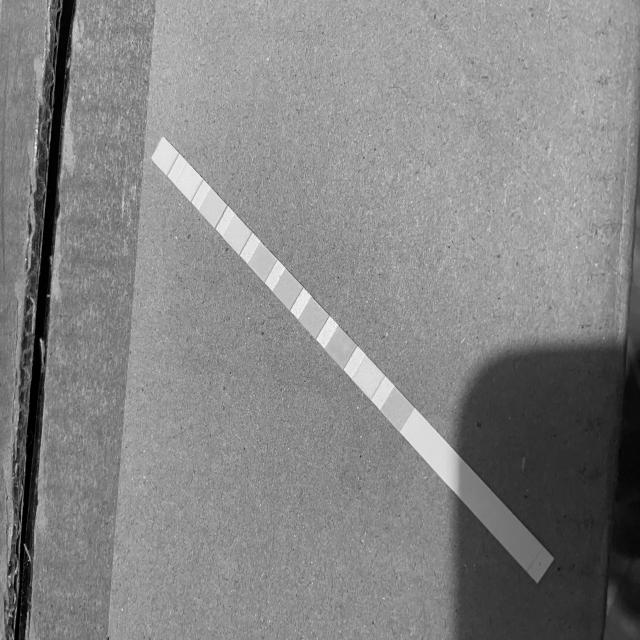Bilirubin: (361, 364, 375, 389)
Blood: (280, 277, 294, 301)
Glucose: (388, 395, 404, 421)
Ketone: (333, 334, 348, 360)
Leukocytes: (158, 146, 174, 165)
Nitrite: (181, 171, 197, 193)
Protein: (230, 222, 244, 245)
SpGravity: (305, 306, 322, 329)
Urobilinogen: (206, 197, 220, 219)
background: (0, 0, 640, 640)
pH: (256, 249, 269, 275)
strip: (151, 136, 554, 584)
